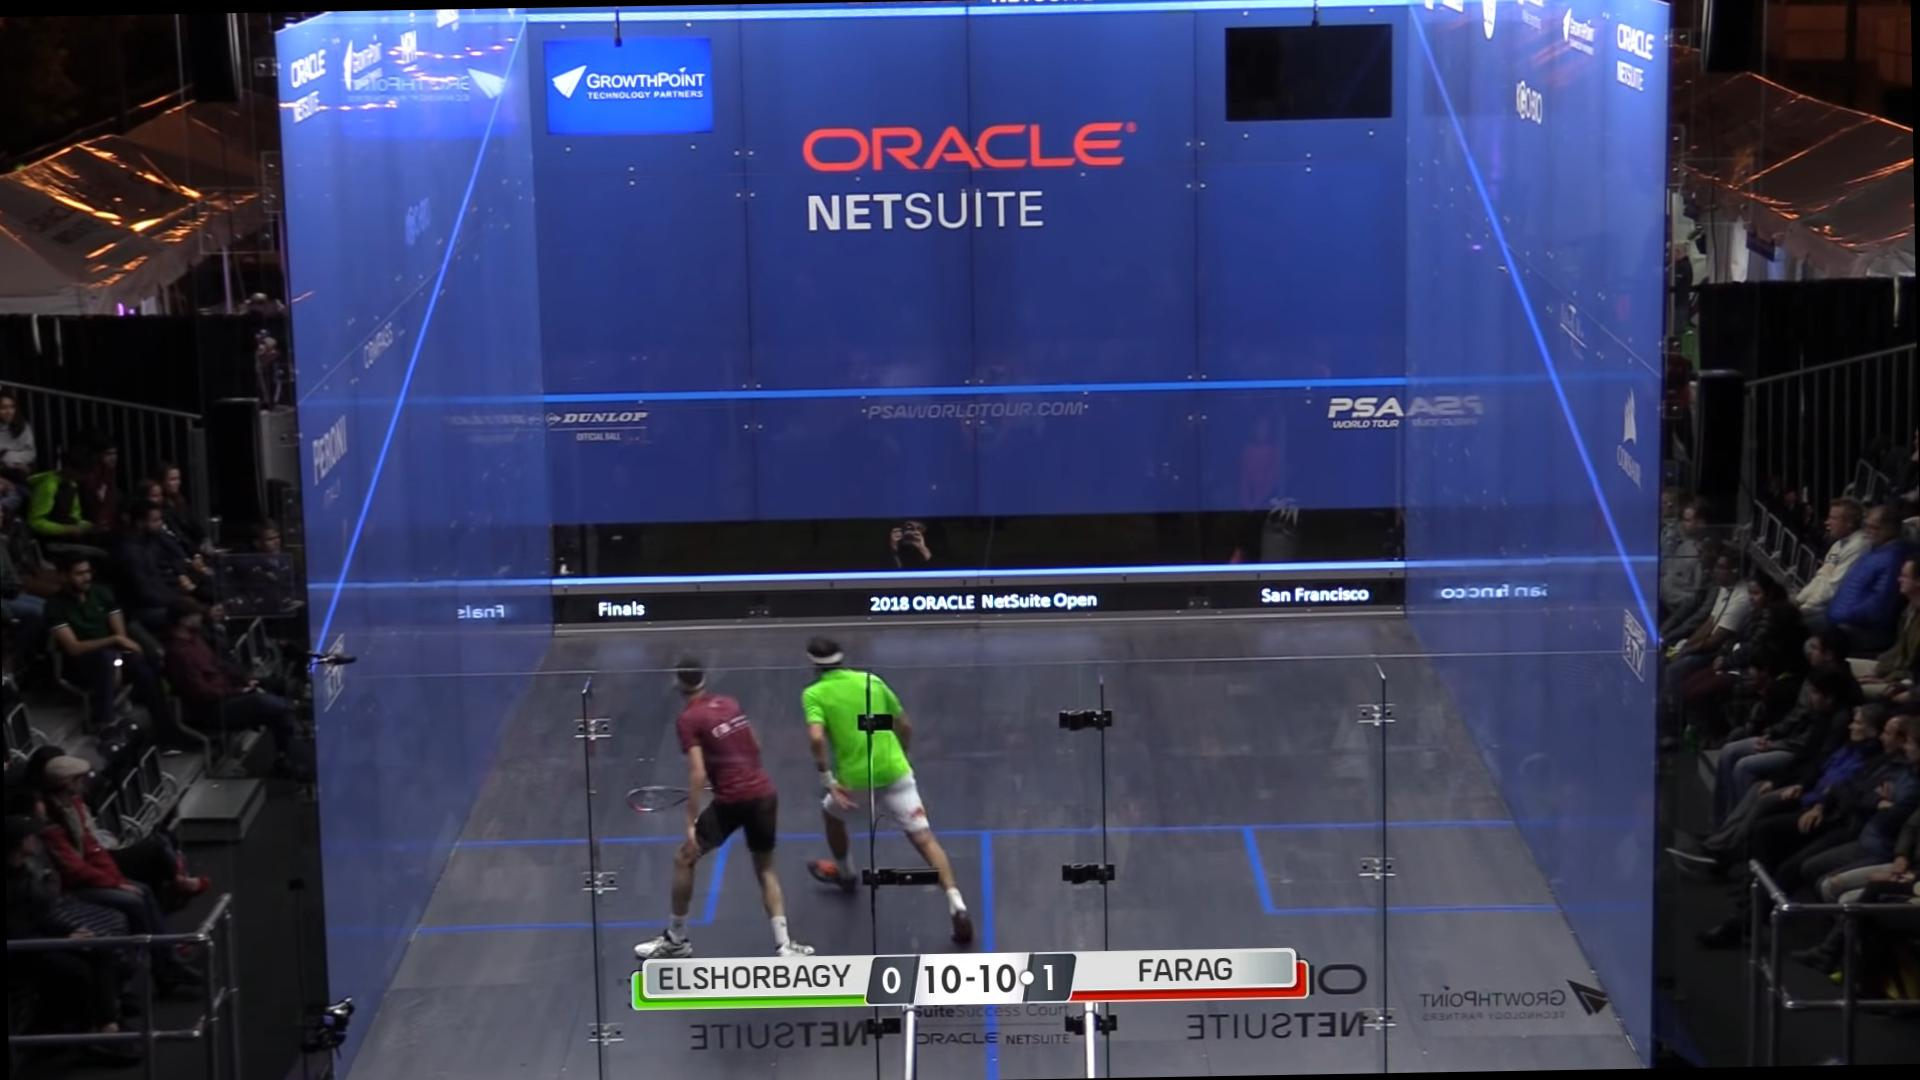Squash-Ball: (555, 546, 575, 575)
